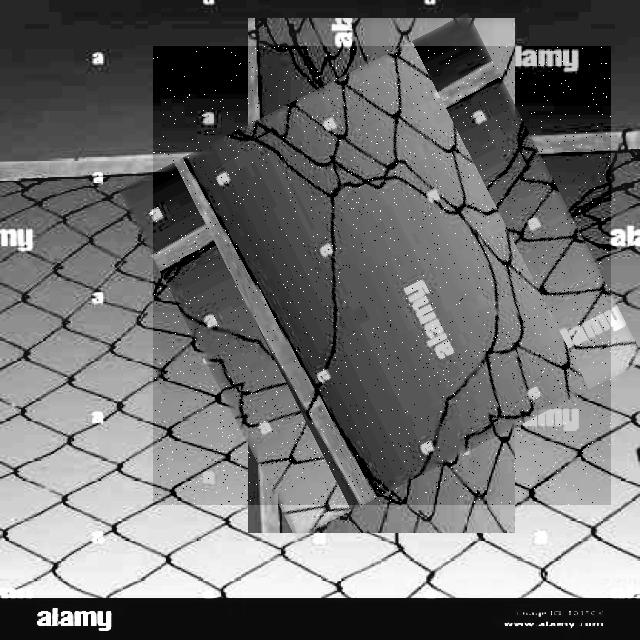anomaly-fence: (153, 46, 611, 505)
